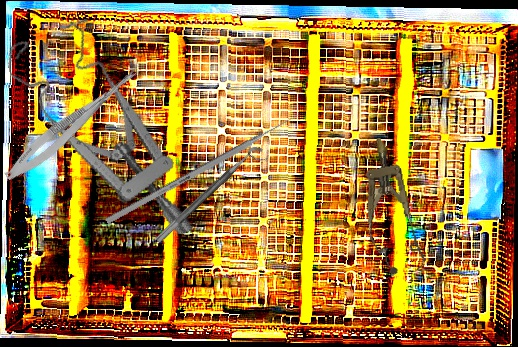Fixation Ring: (153, 141, 271, 253)
Micro Scissor: (0, 56, 146, 188)
Pusher: (104, 110, 303, 226)
Speculum: (1, 5, 194, 266), (353, 133, 429, 280)
